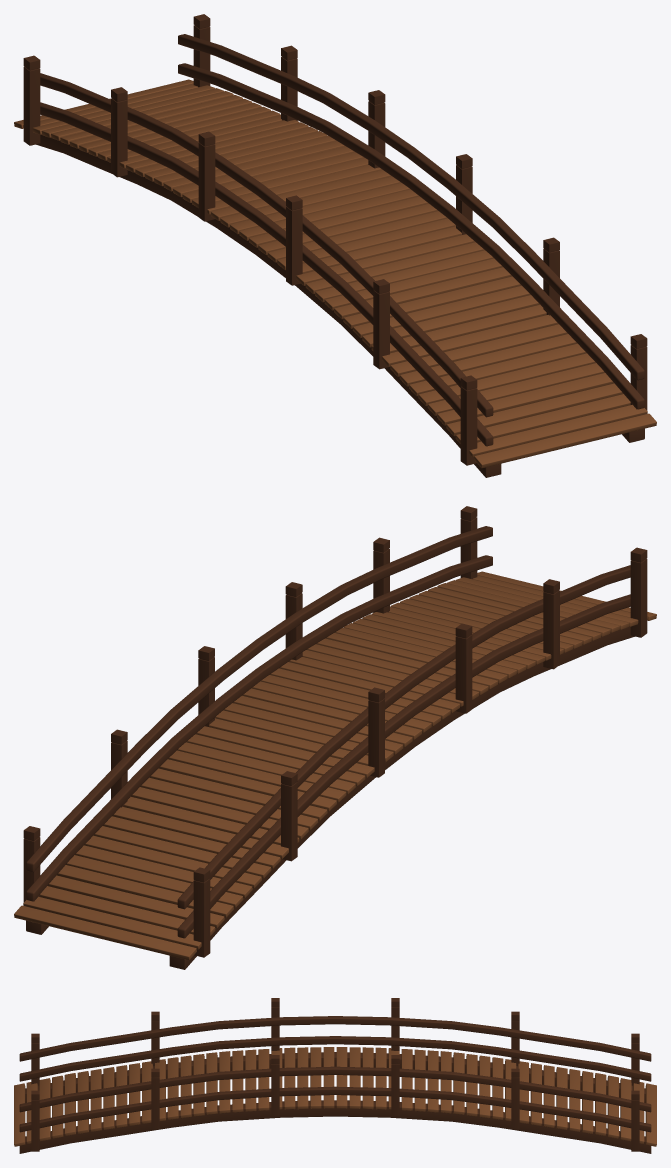
Rendered from bridge.fbx.
3 views of the same model, one above another, from view 1: azimuth 30°, elevation 25°; view 2: azimuth 150°, elevation 25°; view 3: azimuth 270°, elevation 25° (orthographic). The views are drawn at different scales.
Visible parts, largest first — view 1: Cube.001, Cube.004, Cube.005, Cube.003, Cube; view 2: Cube.001, Cube.004, Cube.005, Cube.003, Cube; view 3: Cube.001, Cube.005, Cube.003, Cube, Cube.004.
Part boxes in pixels (box(x1,y1,x2,y2)): Cube.001: box(14, 79, 656, 468); Cube.004: box(23, 14, 647, 465); Cube.005: box(40, 34, 644, 417); Cube.003: box(40, 63, 644, 446); Cube: box(36, 134, 644, 477); Cube.001: box(14, 571, 656, 960); Cube.004: box(23, 506, 647, 957); Cube.005: box(26, 526, 630, 909); Cube.003: box(26, 555, 630, 938); Cube: box(26, 626, 634, 969); Cube.001: box(14, 1047, 656, 1146); Cube.005: box(19, 1016, 651, 1112); Cube.003: box(19, 1036, 651, 1132); Cube: box(19, 1052, 651, 1153); Cube.004: box(31, 998, 639, 1151).
Size of the model in its own units: 680 by 519 by 3053.
